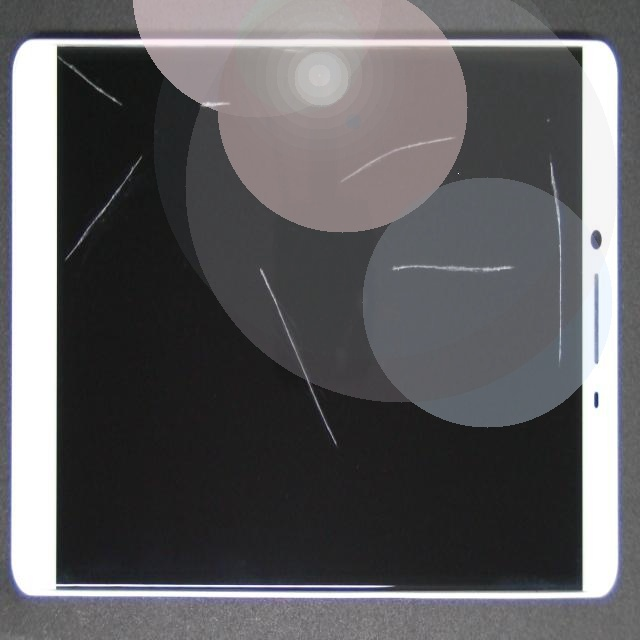scratch: (170, 89, 509, 267)
